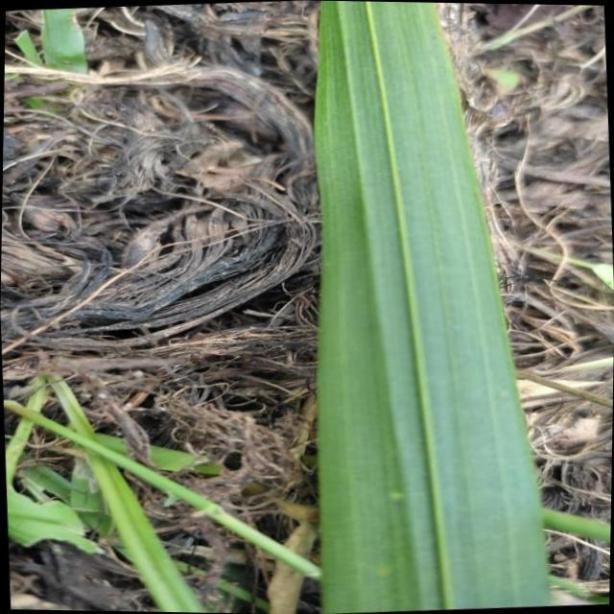Healthy: (317, 5, 553, 608)
